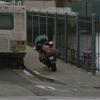Motorcycle: (31, 29, 71, 79)
